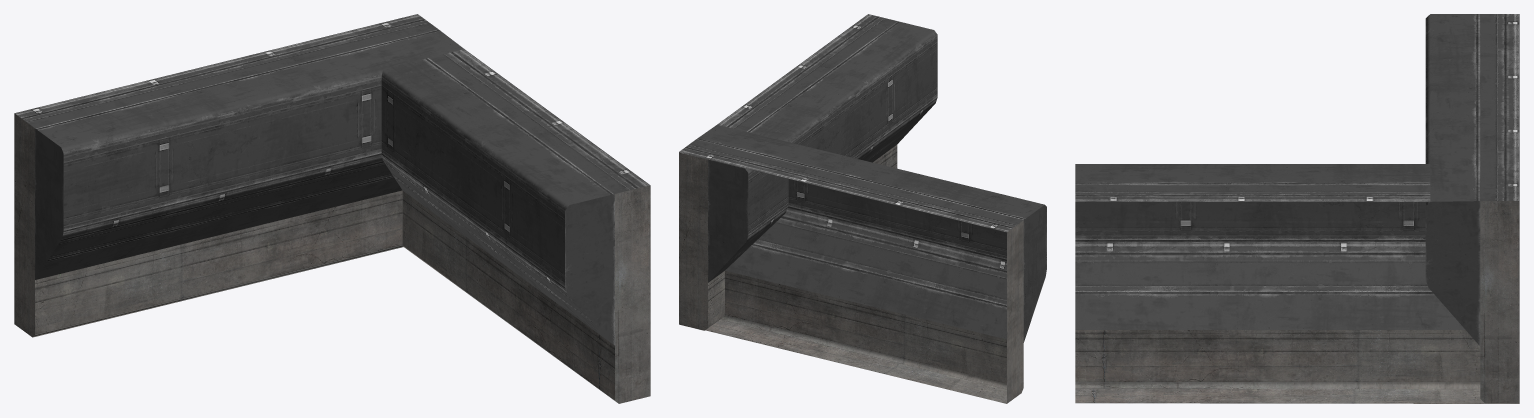
File: CP_Service_Overhang_Angle_In.fbx
3 renders of one model, left to right at view 1: azimuth 30°, elevation 25°; view 2: azimuth 150°, elevation 25°; view 3: azimuth 270°, elevation 25°, orthographic. The views are drawn at different scales.
Parts seen in each view (by area): view 1: CP_Service_Overhang_Angle_In; view 2: CP_Service_Overhang_Angle_In; view 3: CP_Service_Overhang_Angle_In.
Part boxes in pixels (left/top/right/bottom): CP_Service_Overhang_Angle_In: left=14, top=14, right=650, bottom=403; CP_Service_Overhang_Angle_In: left=679, top=14, right=1046, bottom=403; CP_Service_Overhang_Angle_In: left=1075, top=14, right=1519, bottom=403.
Size of the model in its own units: 200 by 101 by 200.
